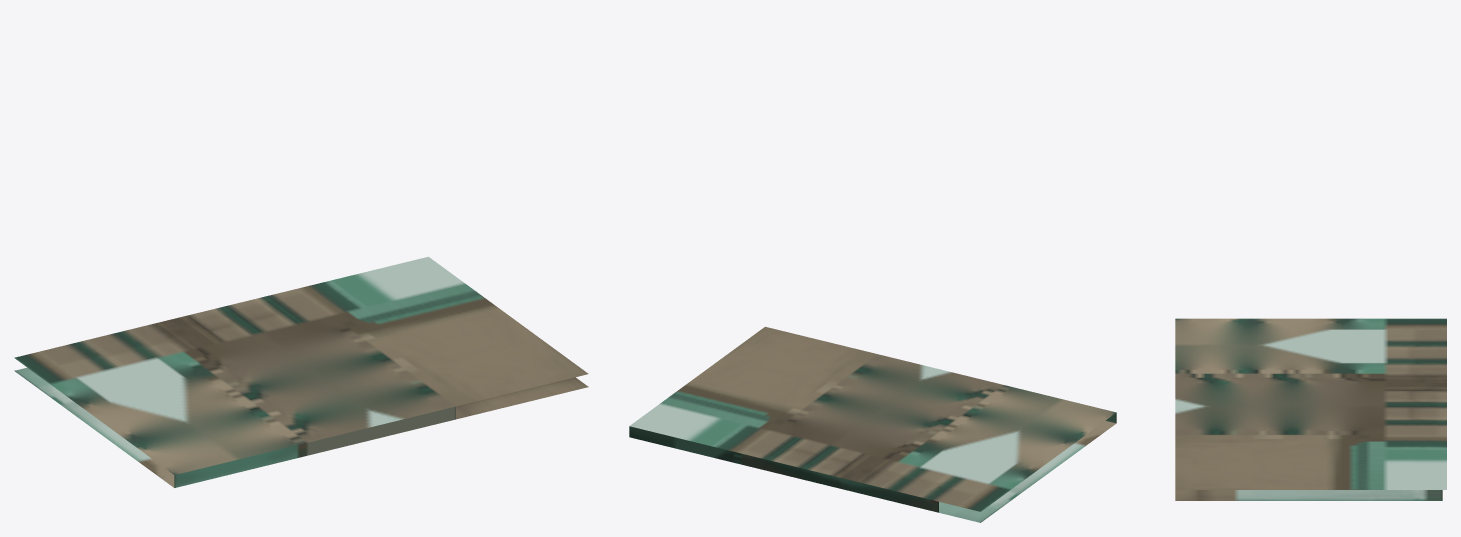
File: section-4.obj
The picture shows the model from 3 angles, left to right: view 1: azimuth 30°, elevation 25°; view 2: azimuth 150°, elevation 25°; view 3: azimuth 270°, elevation 25°; orthographic projection. The views are drawn at different scales.
Size of the model in its own units: 1 by 0.92 by 0.72.
